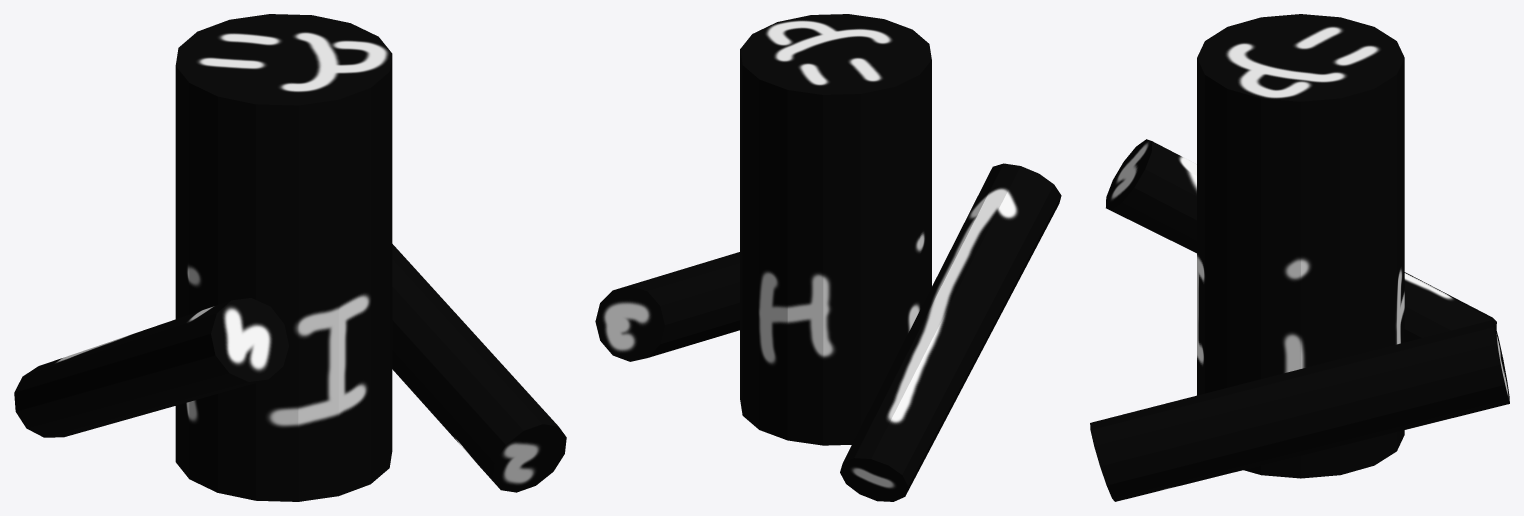
File: test_man.fbx
3 renders of one model, left to right at view 1: azimuth 30°, elevation 25°; view 2: azimuth 150°, elevation 25°; view 3: azimuth 270°, elevation 25°, orthographic. The views are drawn at different scales.
Parts seen in each view (by area): view 1: DebugCreature; view 2: DebugCreature; view 3: DebugCreature.
Boxes of the visible parts, <box> form: DebugCreature: <box>14,14,566,501</box>; DebugCreature: <box>595,14,1061,501</box>; DebugCreature: <box>1090,14,1509,501</box>.
Bounding box in the file's own units: 187 × 206 × 202.
1 material, 1 textured.
